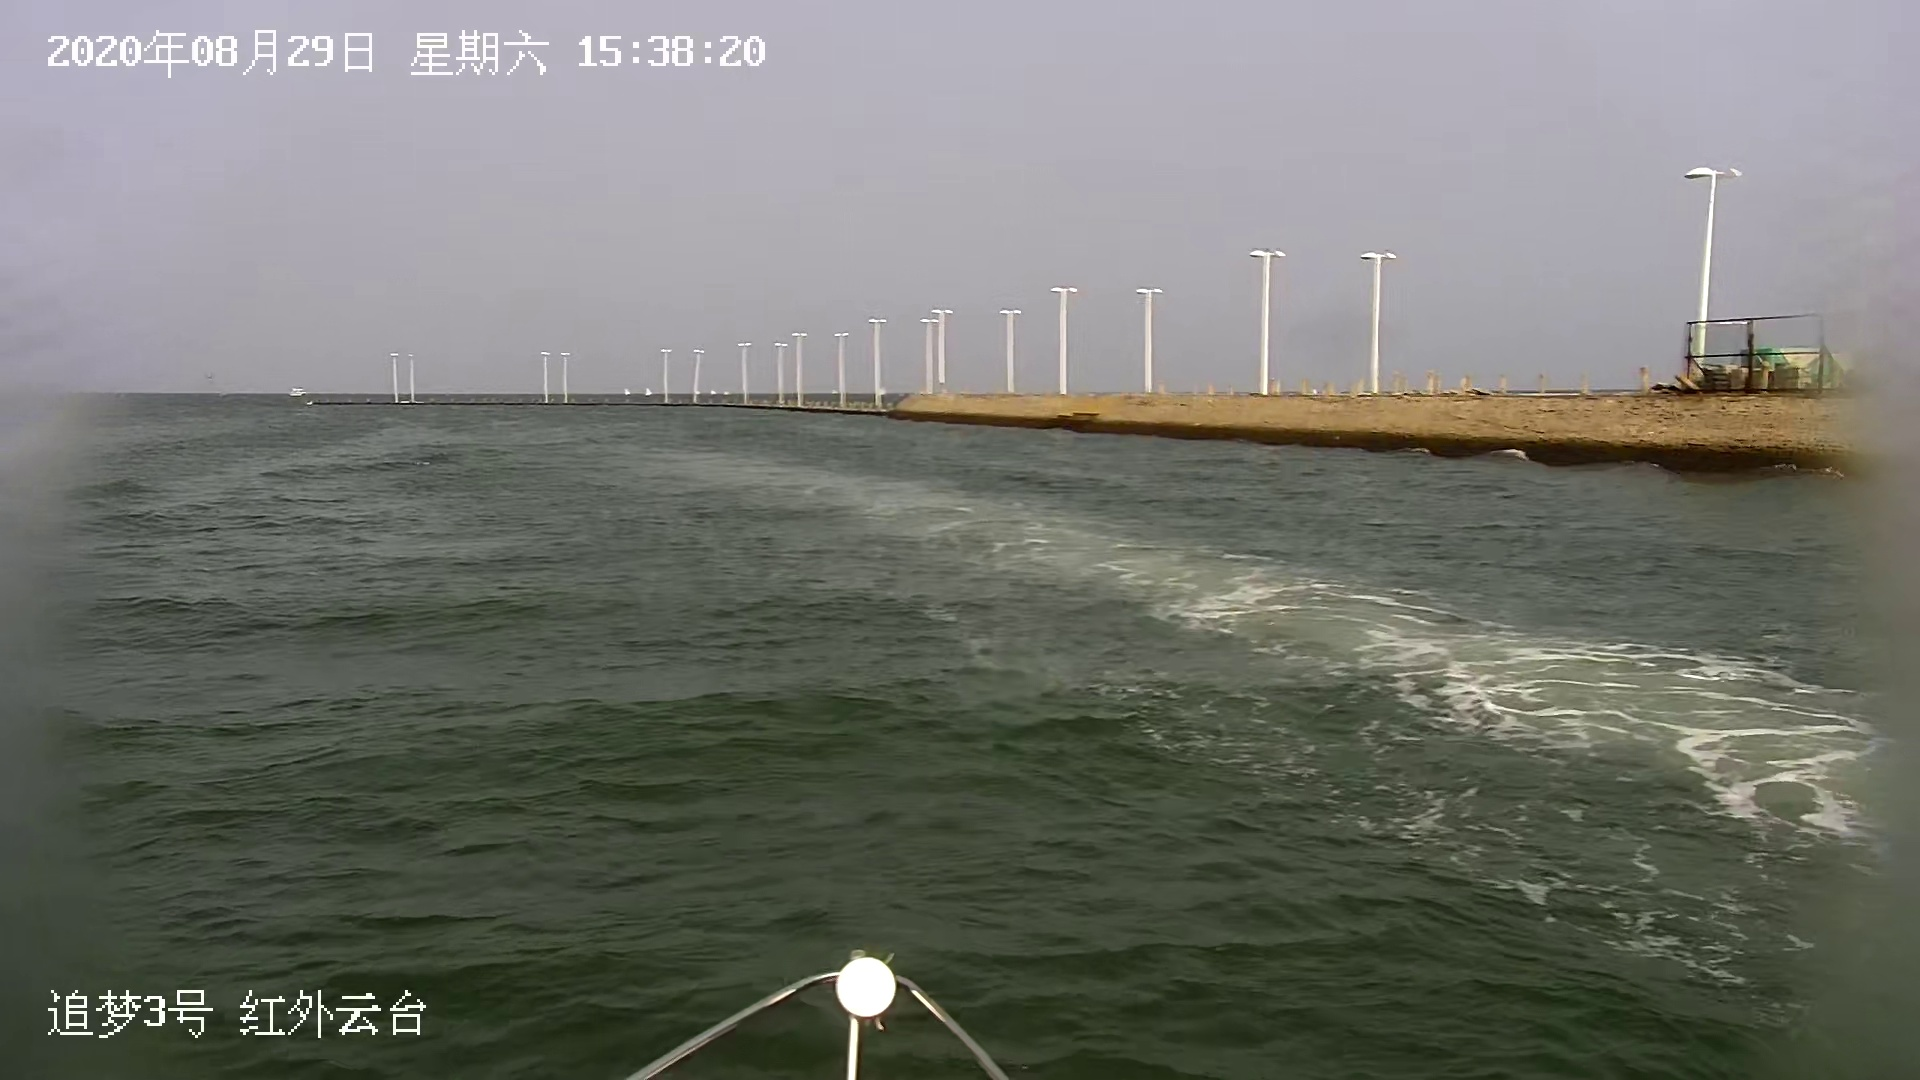barrier: (287, 378, 307, 398)
coast: (313, 148, 1908, 488)
